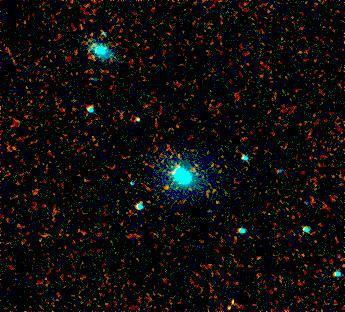star: (157, 169, 187, 199)
